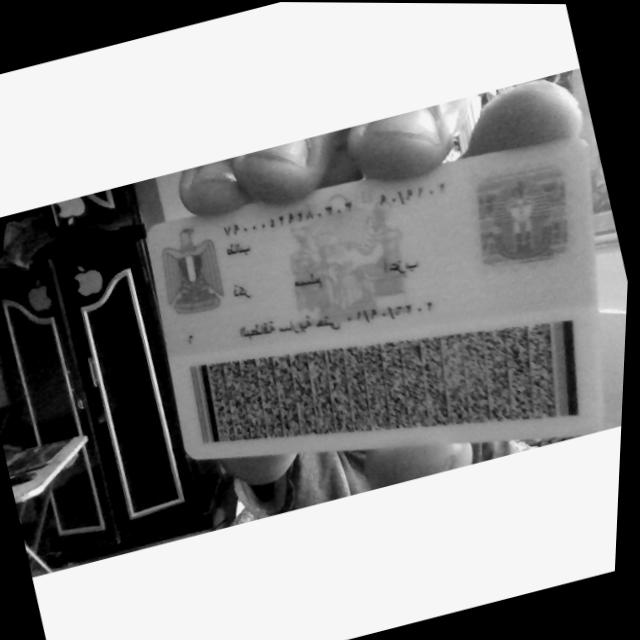back: (148, 138, 608, 459)
